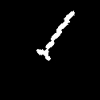half_double_crochet: (37, 11, 73, 59)
